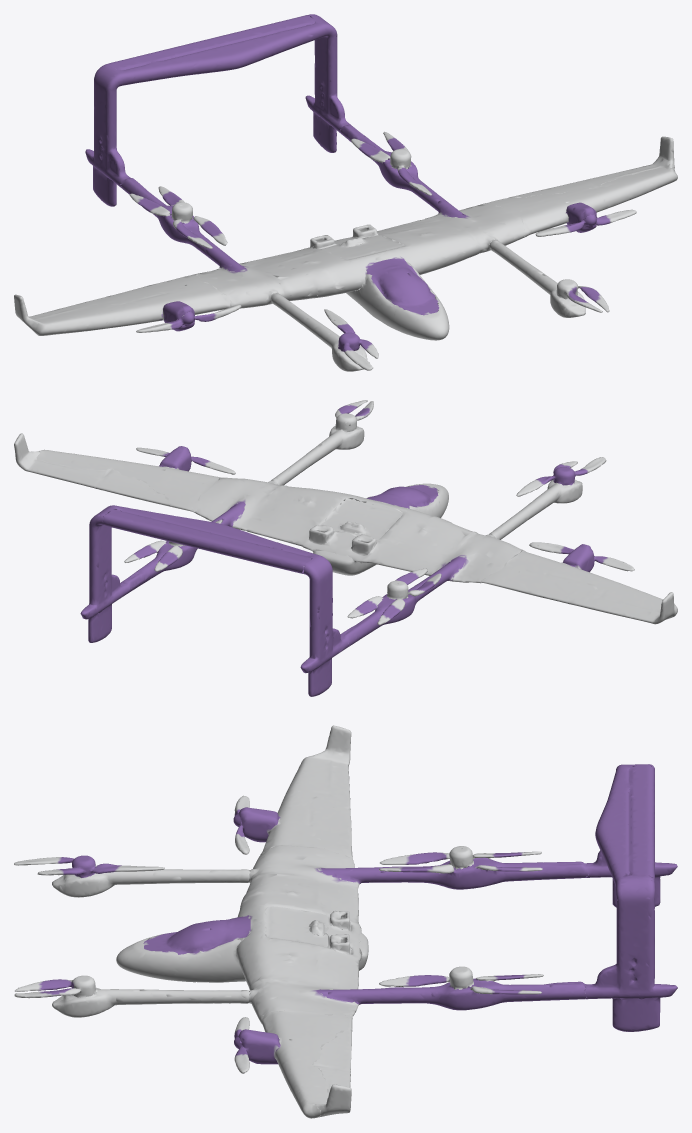
Rendered from drone.glb.
The picture shows the model from 3 angles, top to bottom: view 1: azimuth 30°, elevation 25°; view 2: azimuth 150°, elevation 25°; view 3: azimuth 270°, elevation 25°; orthographic projection. The views are drawn at different scales.
Parts seen in each view (by area): view 1: Body, Rotor_5, Rotor_6, Rotor_1, Rotor_2, Rotor_4, Rotor_3; view 2: Body, Rotor_5, Rotor_1, Rotor_6, Rotor_2, Rotor_3, Rotor_4; view 3: Body, Rotor_5, Rotor_6, Rotor_1, Rotor_2, Rotor_4.
Boxes of the visible parts, left/top/right/bottom form: Body: left=14, top=14, right=677, bottom=371; Rotor_5: left=129, top=186, right=227, bottom=248; Rotor_6: left=351, top=131, right=431, bottom=195; Rotor_1: left=324, top=309, right=378, bottom=370; Rotor_2: left=556, top=279, right=609, bottom=312; Rotor_4: left=535, top=209, right=636, bottom=236; Rotor_3: left=136, top=305, right=241, bottom=332; Body: left=14, top=426, right=677, bottom=696; Rotor_5: left=347, top=568, right=441, bottom=625; Rotor_1: left=516, top=457, right=606, bottom=496; Rotor_6: left=124, top=519, right=222, bottom=571; Rotor_2: left=335, top=400, right=373, bottom=432; Rotor_3: left=529, top=542, right=634, bottom=571; Rotor_4: left=136, top=447, right=235, bottom=474; Body: left=52, top=725, right=677, bottom=1118; Rotor_5: left=379, top=846, right=542, bottom=873; Rotor_6: left=379, top=966, right=543, bottom=994; Rotor_1: left=14, top=855, right=164, bottom=877; Rotor_2: left=14, top=975, right=97, bottom=998; Rotor_4: left=234, top=1017, right=249, bottom=1073.
Bounding box in the file's own units: 1 × 0.1986 × 0.7776.
